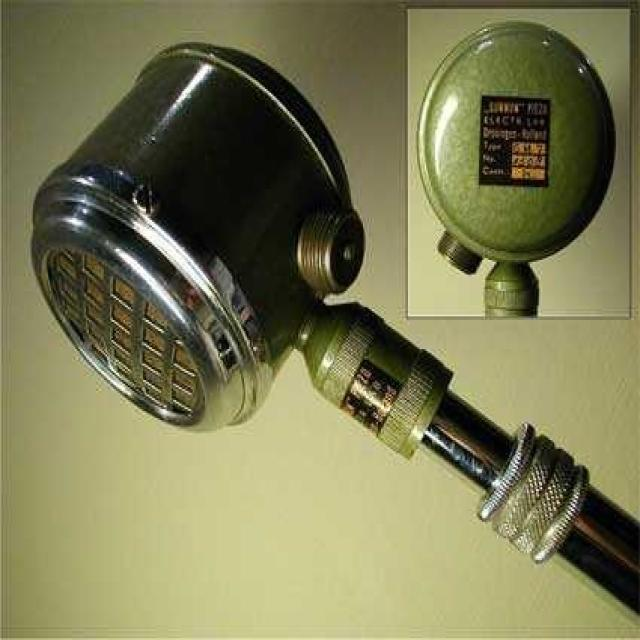microphone: (29, 42, 359, 428), (412, 18, 616, 318)
